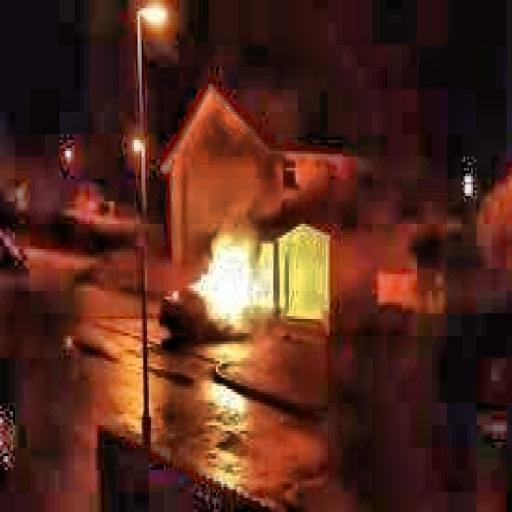fire: (156, 232, 278, 339)
